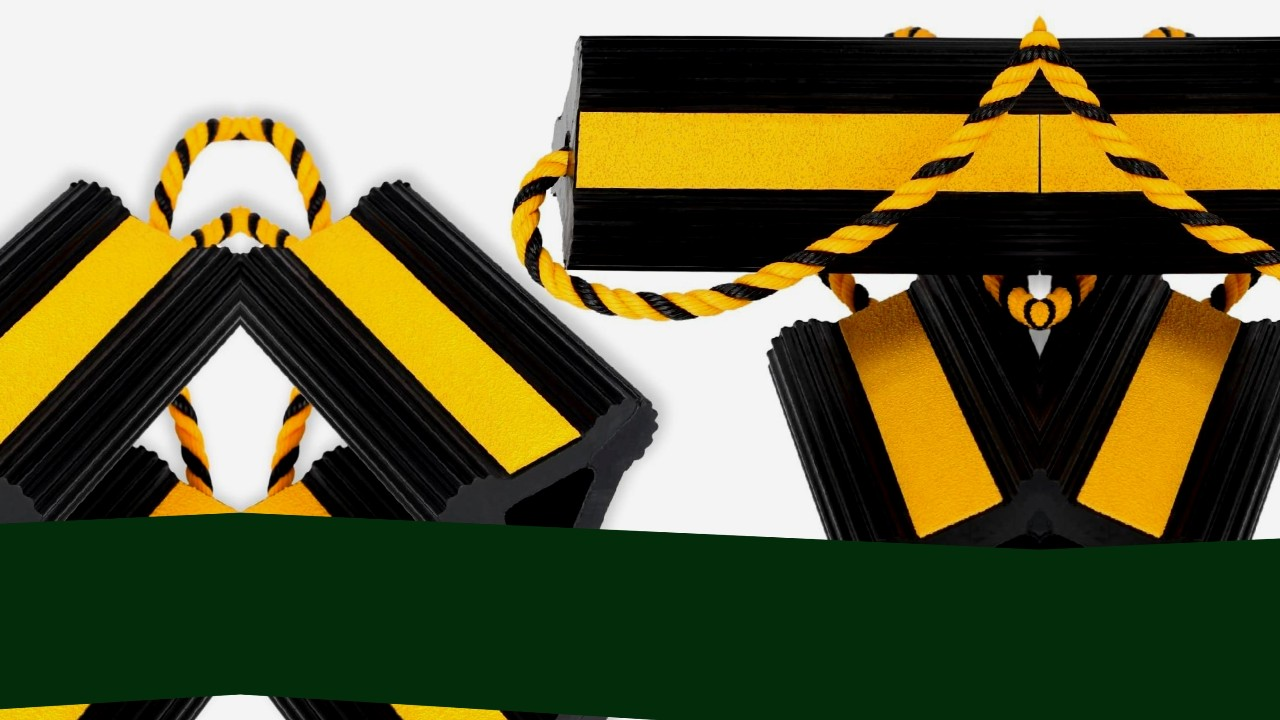chock: (240, 176, 681, 630), (541, 22, 1040, 286), (746, 262, 1040, 706), (240, 438, 643, 720), (0, 176, 240, 630), (1040, 262, 1280, 706), (0, 438, 240, 720), (1040, 22, 1280, 286)
